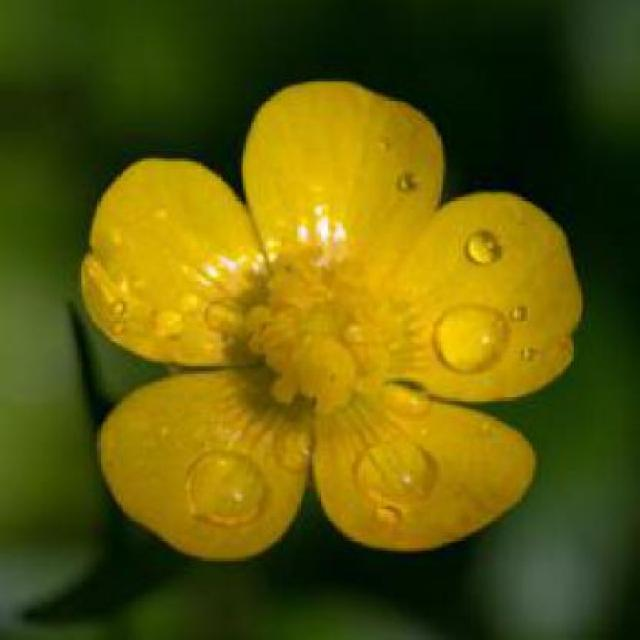Flower: (79, 79, 584, 561)
